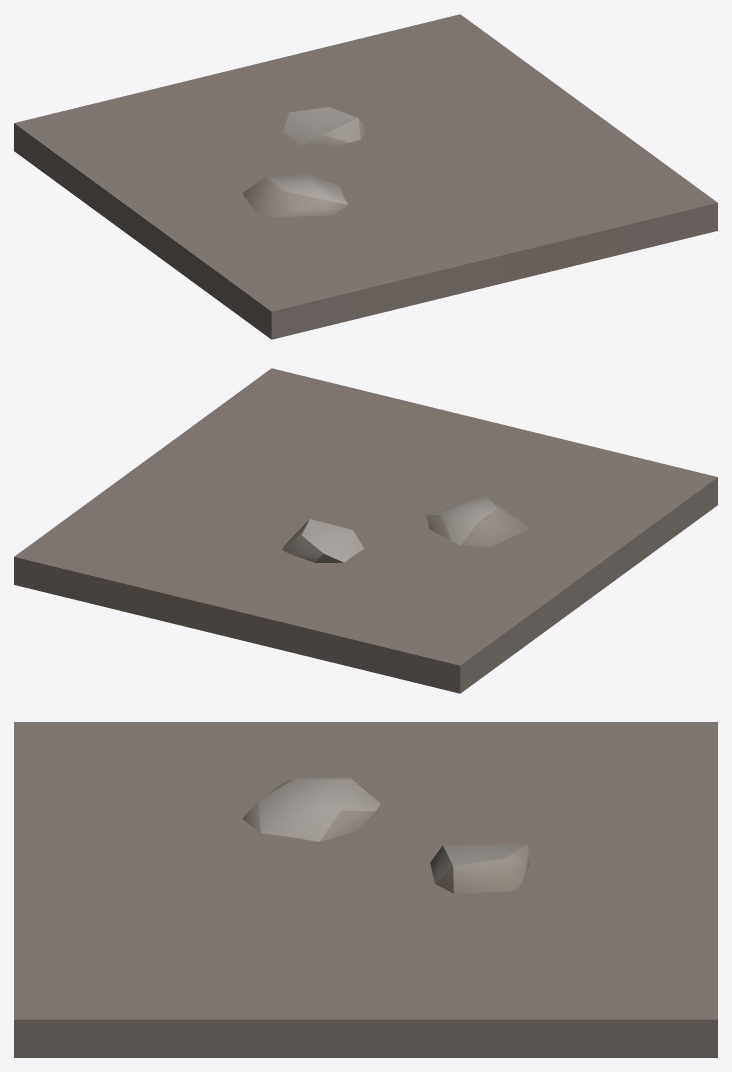
Rendered from kaykit-dungeon-remastered-floor-dirt-small-b-gltf.glb.
3 renders of one model, top to bottom at view 1: azimuth 30°, elevation 25°; view 2: azimuth 150°, elevation 25°; view 3: azimuth 270°, elevation 25°, orthographic. The views are drawn at different scales.
Parts seen in each view (by area): view 1: floor_dirt_small_B; view 2: floor_dirt_small_B; view 3: floor_dirt_small_B.
Boxes of the visible parts, x1,y1,x2,y2 form: floor_dirt_small_B: [14, 14, 717, 339]; floor_dirt_small_B: [14, 368, 717, 693]; floor_dirt_small_B: [14, 722, 717, 1057].
Size of the model in its own units: 2 by 0.1887 by 2.
Materials: 1 (1 with a texture image).
